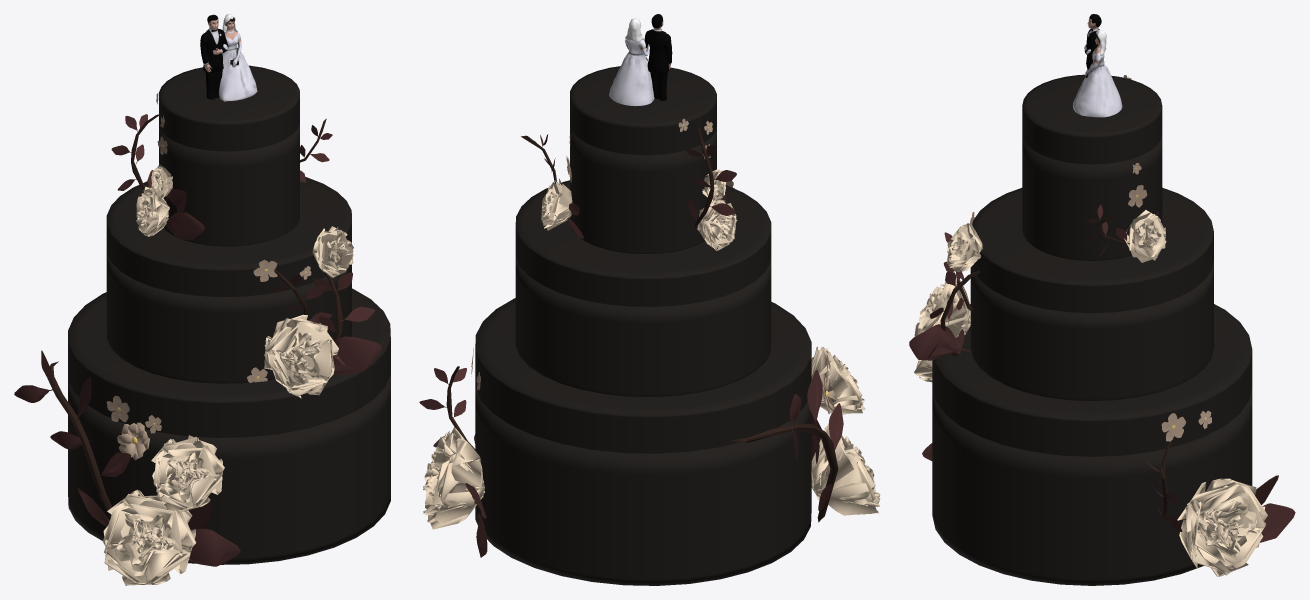
The model's file is 3-tier-black-roses-bridegroom.glb.
3 views of the same model, side by side, from view 1: azimuth 30°, elevation 25°; view 2: azimuth 150°, elevation 25°; view 3: azimuth 270°, elevation 25° (orthographic). The views are drawn at different scales.
Visible parts, largest first — view 1: Cylinder.022, Cylinder.014, Cylinder.021, grid.042, grid.044, grid.040, Plane.093, 13501_Cake_Topper_Bride_Groom_v1_L1.002, grid.043, Plane.087, Plane.091, Plane.095 (+7 smaller); view 2: Cylinder.022, Cylinder.014, Cylinder.021, grid.029, 13501_Cake_Topper_Bride_Groom_v1_L1.002, grid.042, Plane.093, grid.040, grid.045, Plane.092, grid.047, Plane.084; view 3: Cylinder.022, Cylinder.014, Cylinder.021, grid.029, 13501_Cake_Topper_Bride_Groom_v1_L1.002, grid.044, grid.047, Plane.087, grid.043, Plane.095, Plane.082, Plane.084 (+1 smaller).
Part boxes in pixels (x1,y1,x2,y2): Cylinder.022: [68, 288, 390, 564]; Cylinder.014: [106, 177, 351, 383]; Cylinder.021: [159, 65, 299, 246]; grid.042: [103, 489, 196, 585]; grid.044: [264, 314, 338, 398]; grid.040: [151, 435, 224, 512]; Plane.093: [14, 350, 131, 526]; 13501_Cake_Topper_Bride_Groom_v1_L1.002: [200, 14, 257, 101]; grid.043: [312, 226, 353, 277]; Plane.087: [333, 336, 381, 375]; Plane.091: [189, 528, 240, 566]; Plane.095: [313, 272, 374, 365]; Cylinder.022: [475, 298, 811, 585]; Cylinder.014: [515, 180, 771, 396]; Cylinder.021: [570, 66, 716, 254]; grid.029: [423, 427, 484, 529]; 13501_Cake_Topper_Bride_Groom_v1_L1.002: [609, 14, 672, 106]; grid.042: [811, 423, 880, 515]; Plane.093: [731, 369, 843, 522]; grid.040: [811, 346, 865, 414]; grid.045: [697, 200, 737, 250]; Plane.092: [684, 126, 736, 227]; grid.047: [541, 180, 572, 230]; Plane.084: [419, 366, 475, 450]; Cylinder.022: [932, 304, 1252, 585]; Cylinder.014: [970, 187, 1213, 401]; Cylinder.021: [1022, 74, 1162, 260]; grid.029: [1177, 478, 1267, 576]; 13501_Cake_Topper_Bride_Groom_v1_L1.002: [1073, 14, 1122, 117]; grid.044: [914, 279, 970, 337]; grid.047: [1124, 210, 1166, 262]; Plane.087: [909, 324, 969, 360]; grid.043: [947, 223, 982, 271]; Plane.095: [927, 270, 980, 358]; Plane.082: [1259, 503, 1295, 542]; Plane.084: [1144, 442, 1182, 531].
Bounding box in the file's own units: 5.28 × 6.96 × 4.9.
7 materials, 1 textured.
